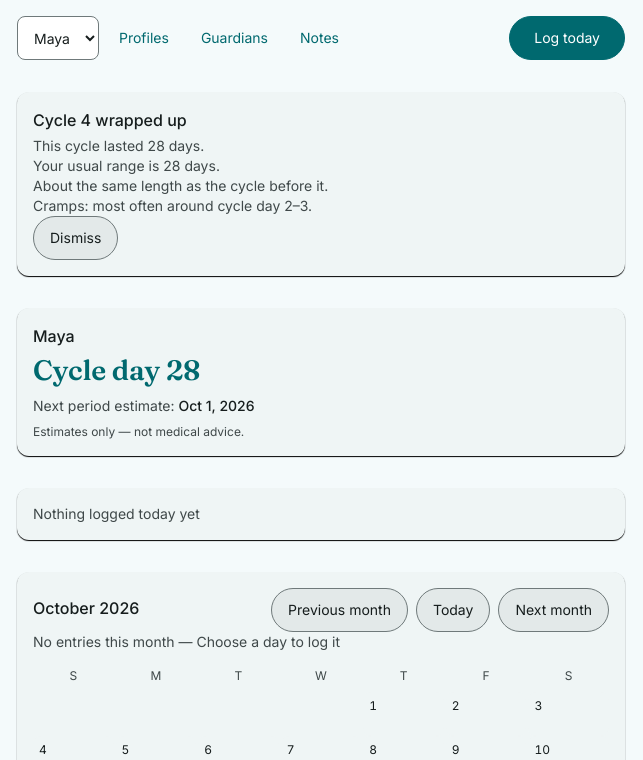
Test case: TodayPage — the profile home (issue #1253) › hides the recap from a guardian
This screenshot has width=643, height=760.
Expected: the heading "Maya" is shown, [33, 326, 75, 346]
Expected: the element with test id "cycle-recap-card" is shown, [17, 92, 625, 276]
Select "Priya" in the dropdown named "Profile": (58, 38) [17, 16, 99, 60]
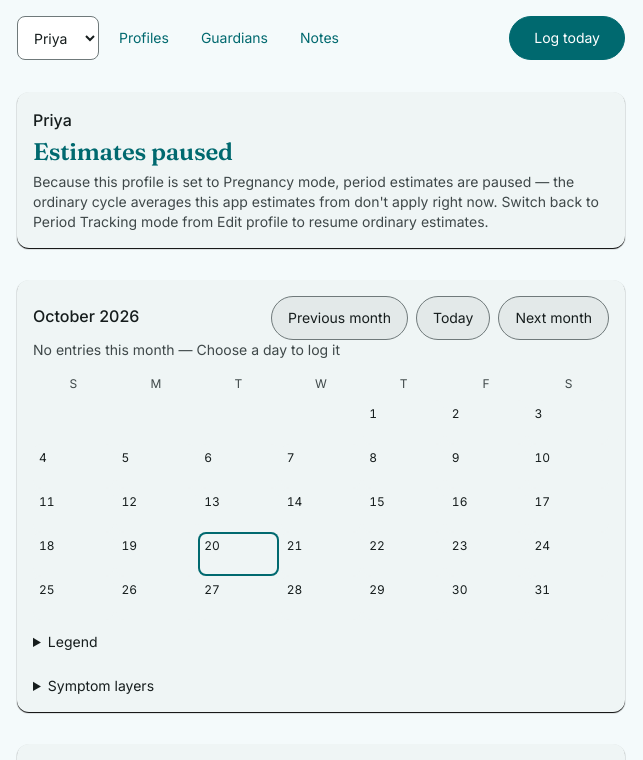
Now the heading "Priya" is shown, box [33, 110, 72, 130]
Now the element with test id "cycle-recap-card" is gone
